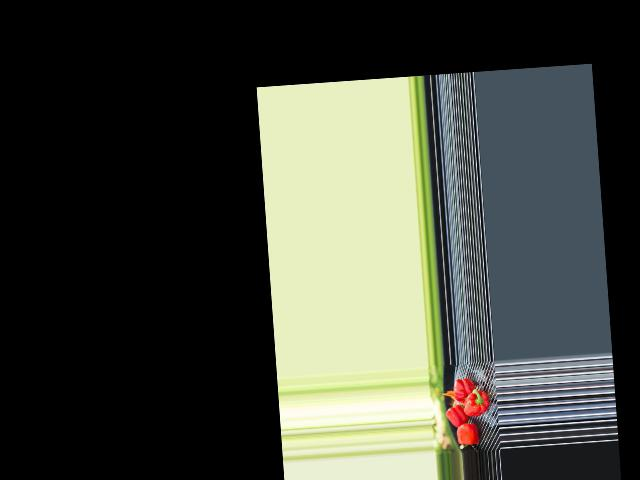bell_pepper: (451, 376, 475, 403)
